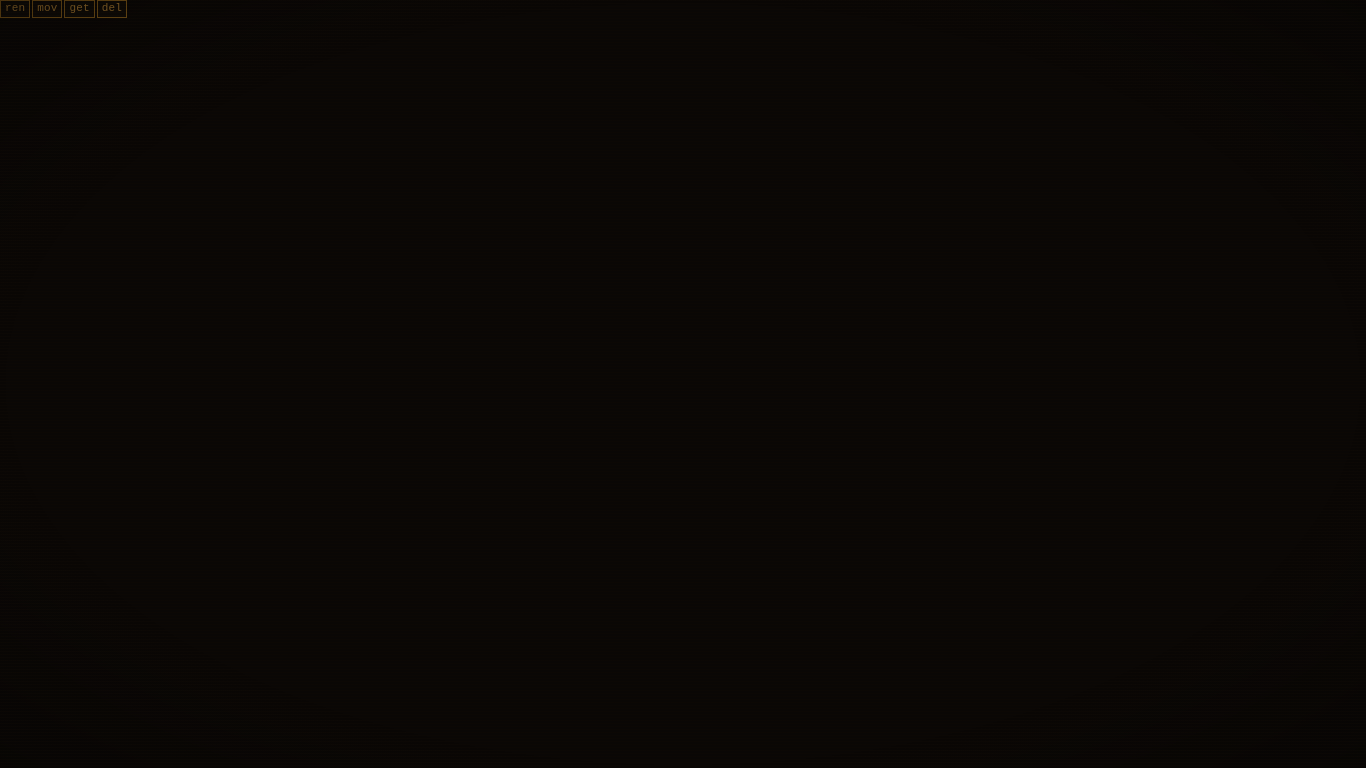
Test: FileActions › refuses a rename that changes nothing
This screenshot has width=1366, height=768.
Click the button with aria-label "renomear topologia.png".
click(15, 9)  # box [0,0,30,18]
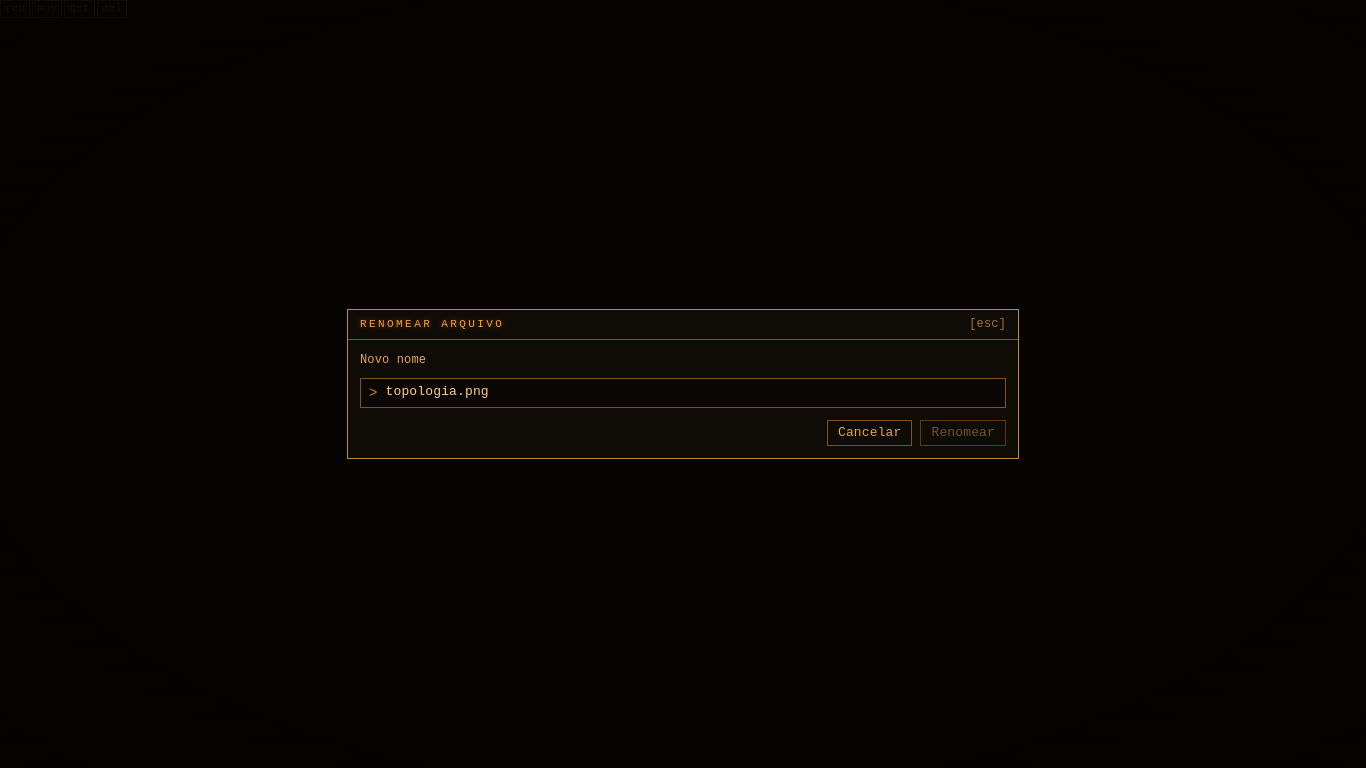
Result: the button "Renomear" is disabled at [920,420,1006,446]
